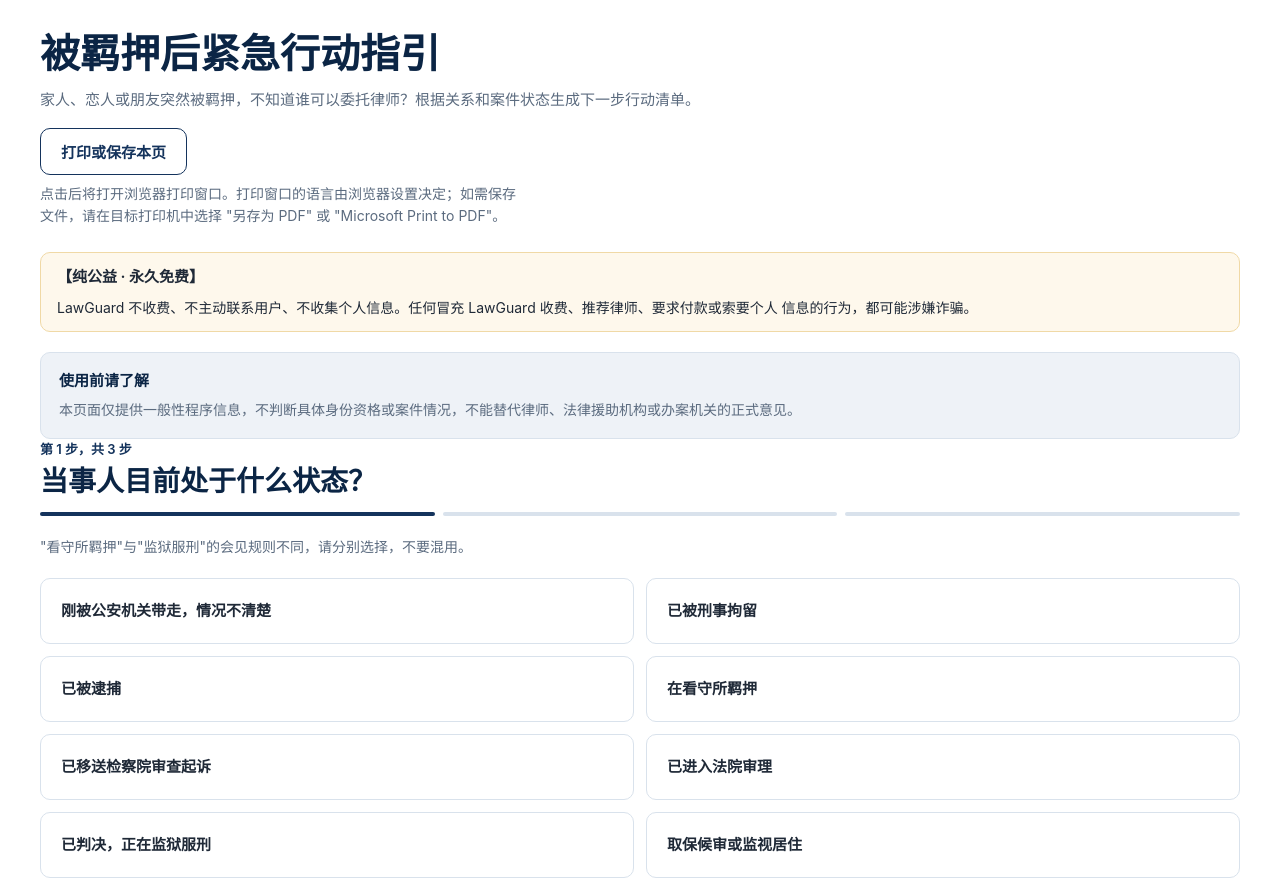
Scenario: EmergencyGuideView：三步引导 + 结果页 › 可以返回上一步修改选择
The width and height of the screenshot is (1280, 888).
Click the button with class "option-card" showing "刚被公安机关带走，情况不清楚". click: [166, 611]
box: [40,578,634,644]
(page scrolled)
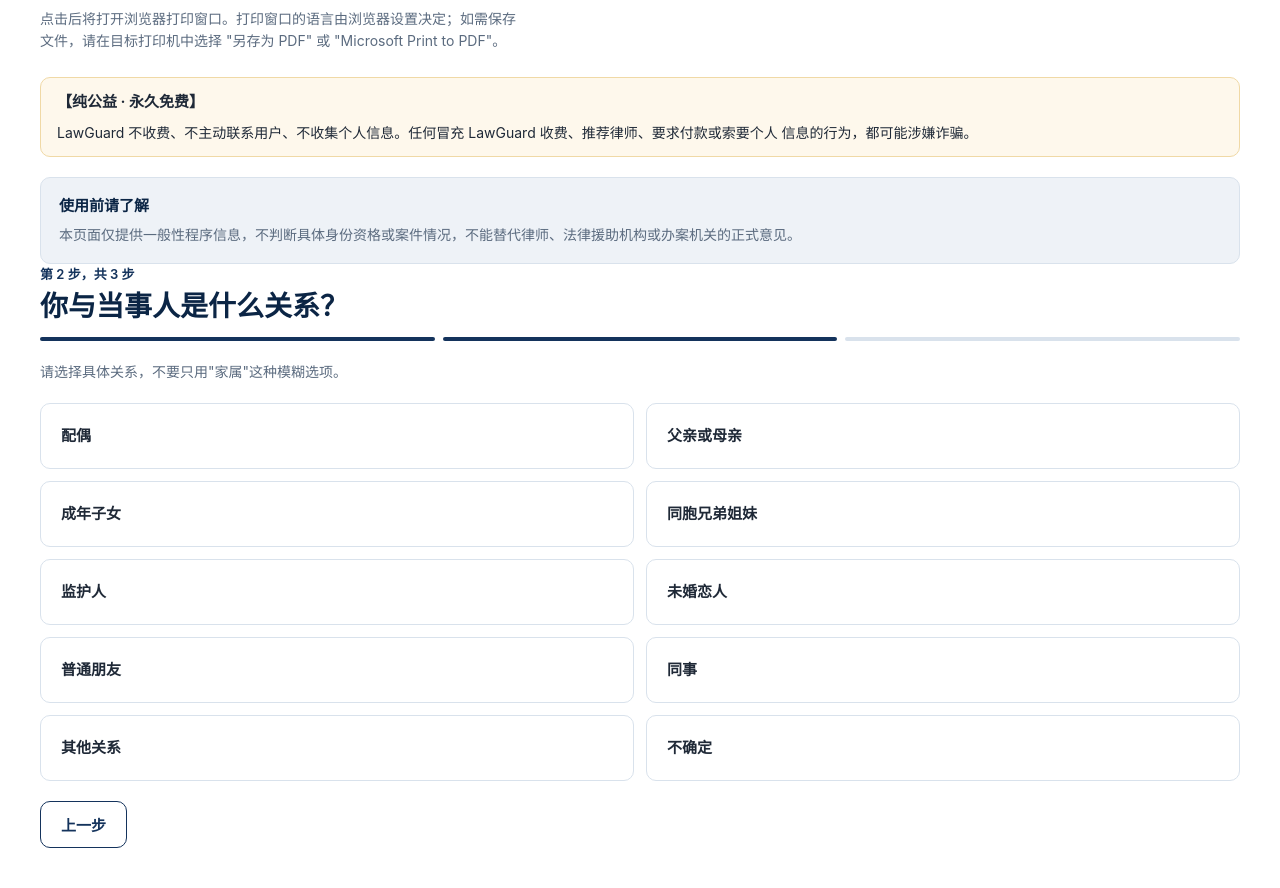
Expected: the text "第 2 步，共 3 步" is shown, [40,266,134,282]
Click the button with class "wizard-step__back". click: [84, 825]
box: [40,801,127,848]
(page scrolled)
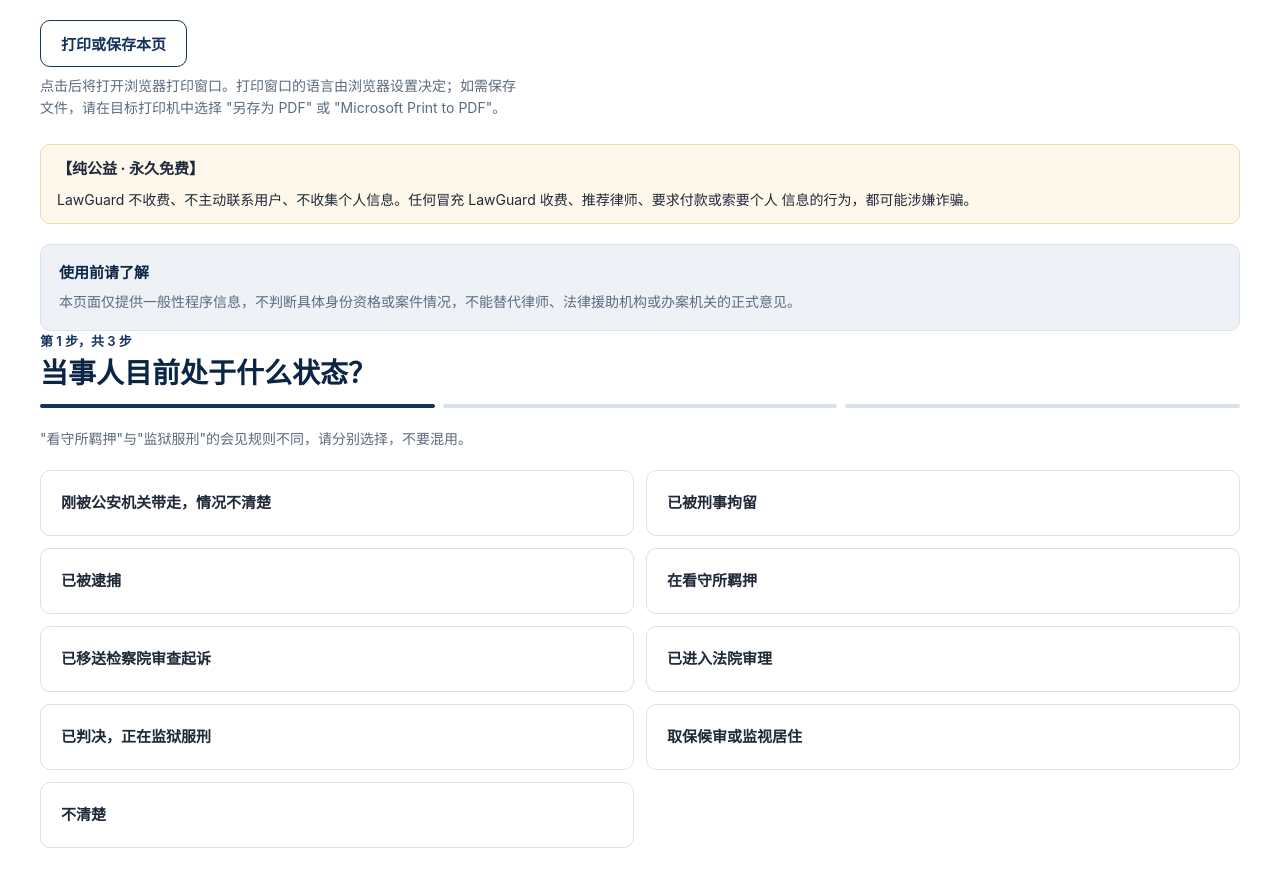
Expected: the text "第 1 步，共 3 步" is shown, [40,333,132,349]
